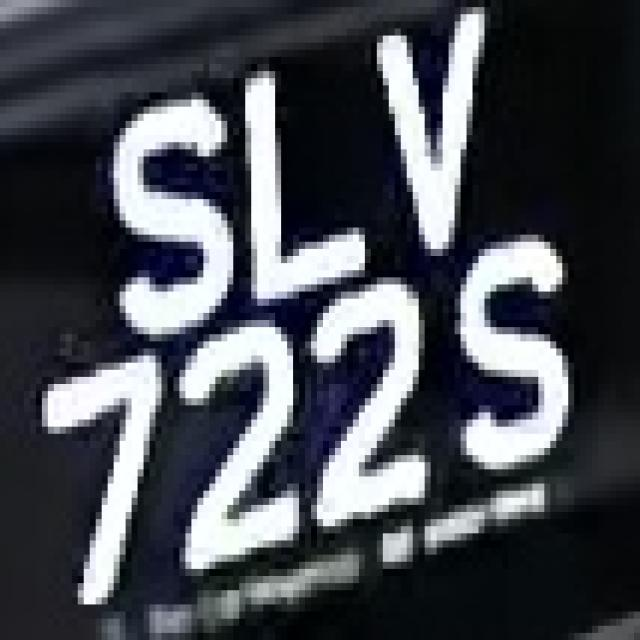2: (275, 270, 443, 555), (156, 306, 311, 583)
7: (24, 370, 161, 633)
L: (209, 50, 365, 292)
S: (425, 214, 586, 476), (78, 57, 227, 334)
V: (353, 21, 490, 249)
